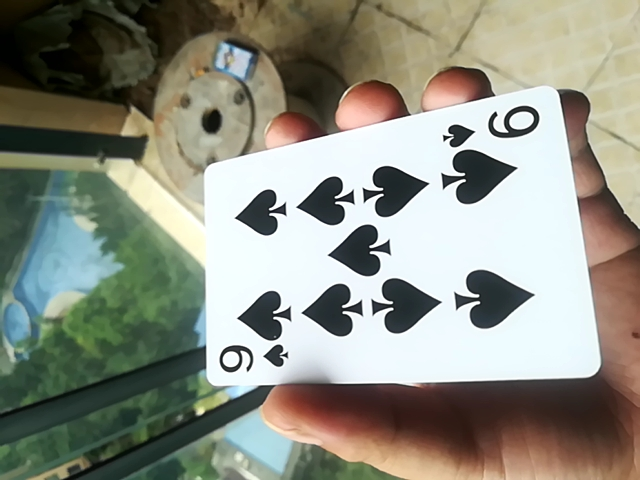ht 9: (193, 82, 604, 398)
